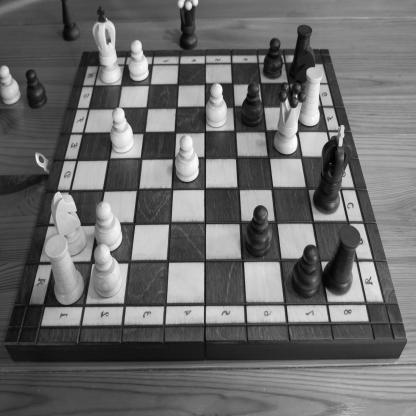black-bishop: (60, 0, 81, 43)
black-king: (313, 124, 352, 214)
black-knight: (290, 45, 315, 102)
black-pawn: (291, 244, 322, 299), (244, 204, 273, 258), (241, 82, 264, 127), (25, 68, 48, 110), (263, 36, 283, 80)
black-queen: (177, 0, 199, 51)
black-rook: (322, 224, 362, 296), (289, 23, 313, 78)
white-king: (92, 5, 122, 84)
white-knight: (50, 190, 88, 258)
white-pawn: (91, 243, 122, 298), (94, 200, 123, 253), (174, 134, 199, 183), (109, 107, 134, 153), (204, 83, 228, 128), (128, 39, 149, 82), (0, 65, 22, 106)
white-queen: (272, 81, 306, 156)
white-rook: (44, 233, 86, 306), (298, 66, 323, 126)
